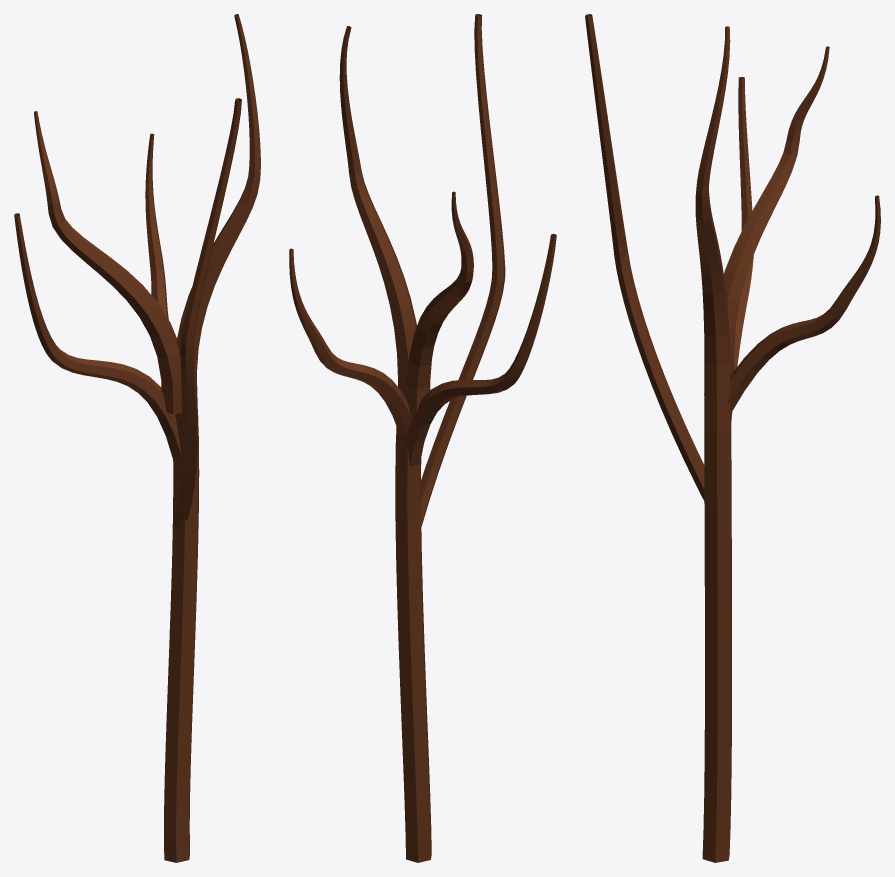
File: arbre4_v3.fbx
3 views of the same model, side by side, from view 1: azimuth 30°, elevation 25°; view 2: azimuth 150°, elevation 25°; view 3: azimuth 270°, elevation 25° (orthographic). The views are drawn at different scales.
Parts seen in each view (by area): view 1: BezierCurve; view 2: BezierCurve; view 3: BezierCurve.
Part boxes in pixels (left/top/right/bottom): BezierCurve: left=14, top=14, right=260, bottom=862; BezierCurve: left=289, top=14, right=556, bottom=862; BezierCurve: left=585, top=14, right=880, bottom=862.
Bounding box in the file's own units: 1963 × 6729 × 2088.
